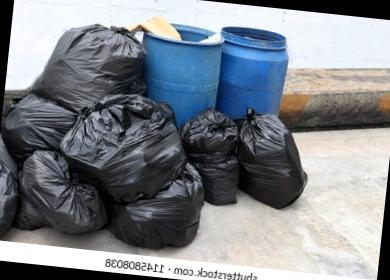trash: (0, 0, 290, 274)
